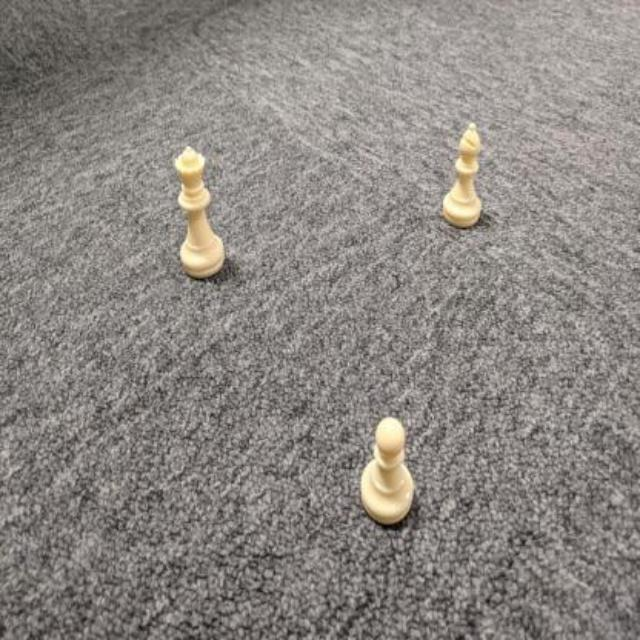white-bishop: (441, 122, 482, 228)
white-pawn: (359, 416, 415, 526)
white-queen: (173, 147, 225, 279)
